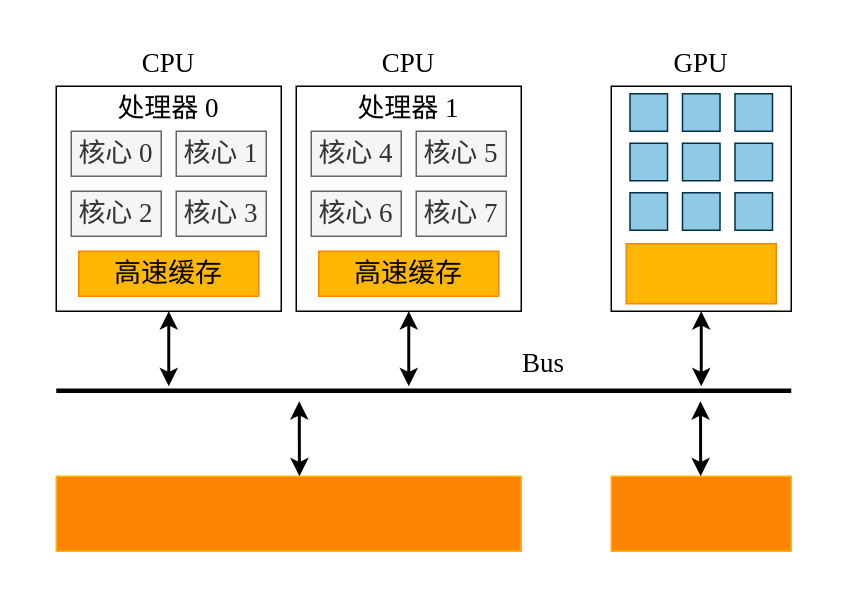
Some shapes in this 846 by 606 pixel diagram are drawn without their labels. The shapes that lost their labels are listed below. From the top down, each one's box as (x1, y1, x2, y2) in pixels, then its label:
(625, 242, 776, 304): GPU 内存
(55, 475, 521, 551): 主存
(610, 475, 791, 551): 网卡
